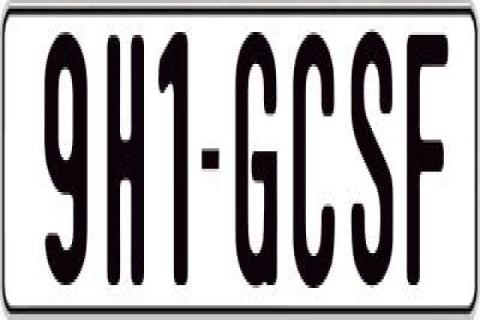0: (42, 29, 92, 285), (158, 24, 188, 288)
C: (290, 32, 334, 296)
F: (406, 32, 450, 296)
G: (234, 26, 280, 294)
H: (108, 27, 146, 286)
S: (348, 32, 394, 302)
